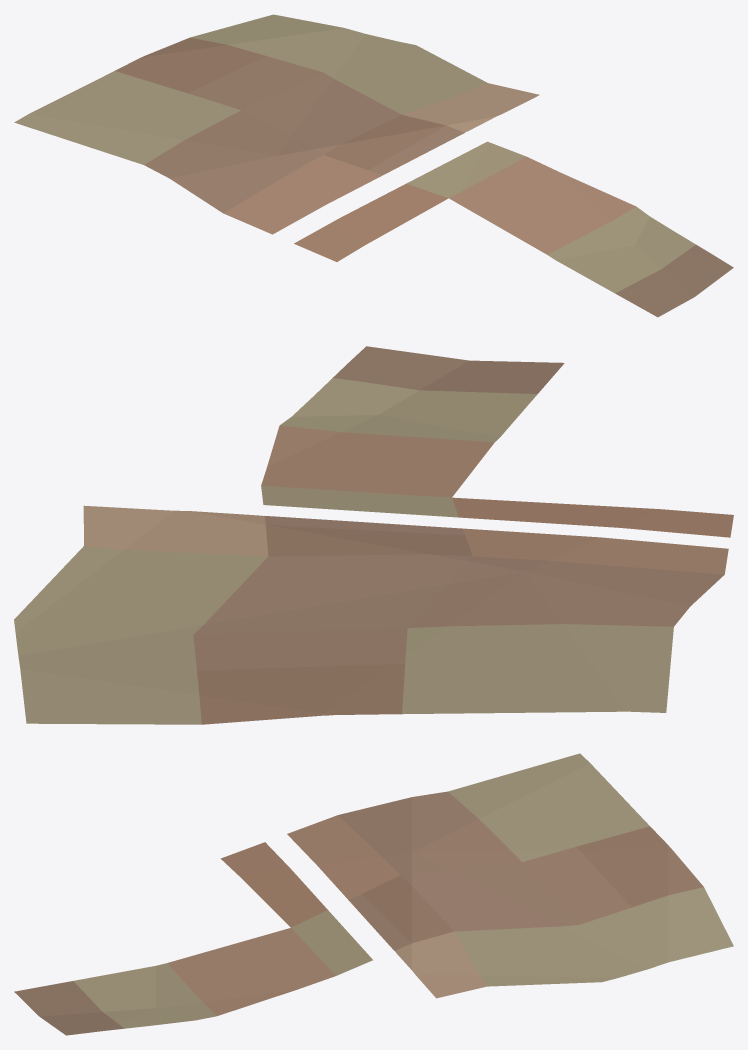
File: farm_-1_18_soil.glb
The picture shows the model from 3 angles, top to bottom: view 1: azimuth 30°, elevation 25°; view 2: azimuth 150°, elevation 25°; view 3: azimuth 270°, elevation 25°; orthographic projection. The views are drawn at different scales.
Visible parts, largest first — view 1: geometry_0; view 2: geometry_0; view 3: geometry_0.
Part boxes in pixels (bbox=[...]): geometry_0: bbox=[14, 14, 733, 317]; geometry_0: bbox=[14, 346, 733, 724]; geometry_0: bbox=[14, 753, 733, 1035].
Size of the model in its own units: 162 by 24.03 by 225.
